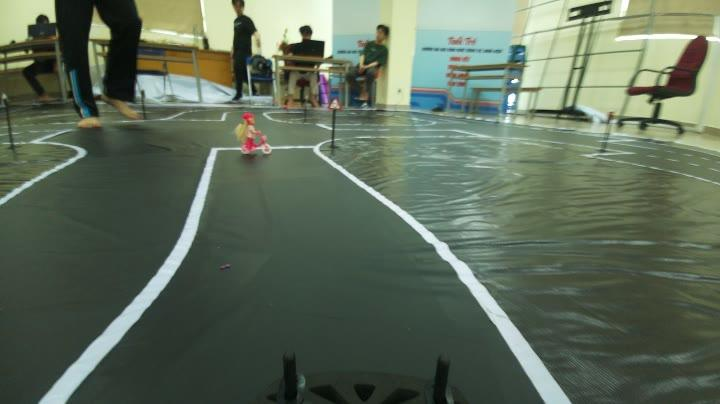pedestrian: (234, 113, 275, 158)
